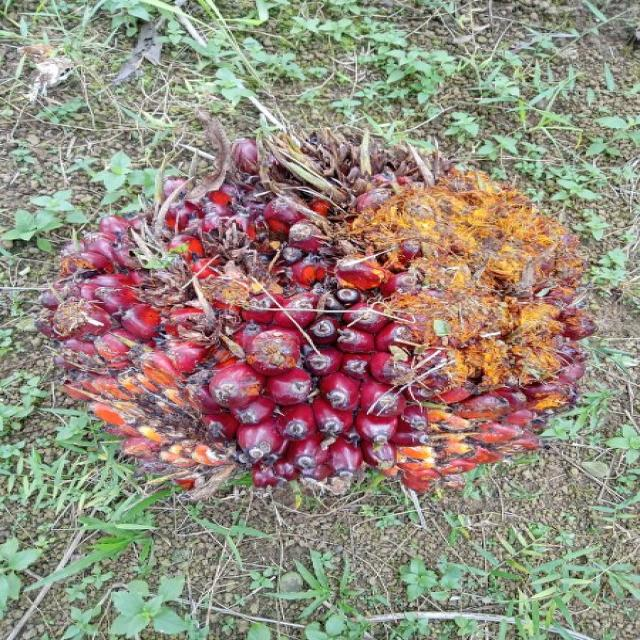fraksi 1: (29, 66, 613, 556)
